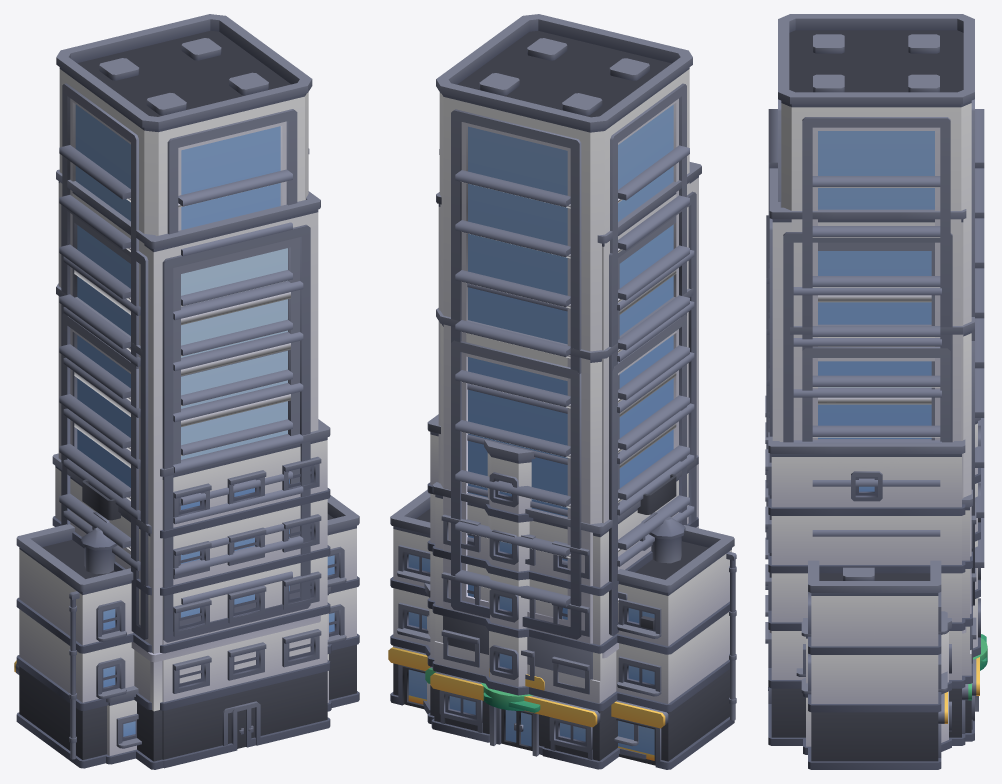
The model's file is lp-city.glb.
The picture shows the model from 3 angles, left to right: view 1: azimuth 30°, elevation 25°; view 2: azimuth 150°, elevation 25°; view 3: azimuth 270°, elevation 25°; orthographic projection.
Visible parts, largest first — view 1: building-skyscraper-b, building-skyscraper-c, building-l, building-k, building-skyscraper-a, building-i, building-e; view 2: building-skyscraper-b, building-k, building-skyscraper-a, building-i, building-skyscraper-c, building-l, building-e; view 3: building-skyscraper-b, building-l, building-k, building-skyscraper-c, building-skyscraper-a, building-i, building-e.
Part boxes in pixels (x1=…): building-skyscraper-b: x1=56, y1=14, x2=312, y2=604; building-skyscraper-c: x1=56, y1=169, x2=320, y2=769; building-l: x1=82, y1=419, x2=330, y2=768; building-k: x1=14, y1=495, x2=359, y2=768; building-skyscraper-a: x1=56, y1=283, x2=292, y2=765; building-i: x1=52, y1=453, x2=151, y2=766; building-e: x1=105, y1=586, x2=331, y2=764; building-skyscraper-b: x1=432, y1=14, x2=692, y2=762; building-k: x1=388, y1=489, x2=736, y2=769; building-skyscraper-a: x1=431, y1=288, x2=693, y2=769; building-i: x1=430, y1=455, x2=698, y2=761; building-skyscraper-c: x1=436, y1=162, x2=701, y2=758; building-l: x1=425, y1=414, x2=676, y2=723; building-e: x1=423, y1=583, x2=646, y2=758; building-skyscraper-b: x1=768, y1=14, x2=984, y2=734; building-l: x1=765, y1=395, x2=987, y2=745; building-k: x1=801, y1=560, x2=947, y2=769; building-skyscraper-c: x1=766, y1=168, x2=986, y2=734; building-skyscraper-a: x1=768, y1=317, x2=984, y2=741; building-i: x1=962, y1=489, x2=979, y2=734; building-e: x1=796, y1=618, x2=951, y2=754.
Size of the model in its own units: 2.08 by 4.48 by 1.4.
1 material, 1 textured.
